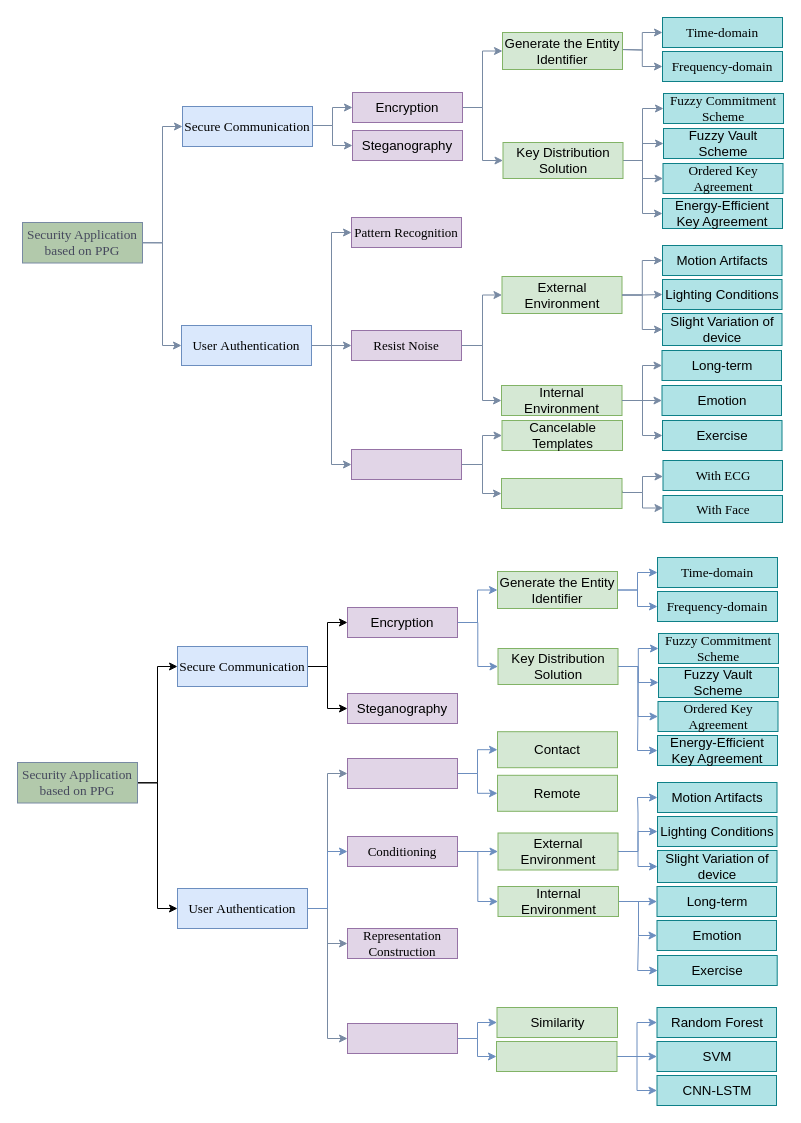
Some shapes in this 801 by 1123 pixel diagram are drawn without their labels. Here are the shapes that lost their labels. From the top down, the centre of each, then its label:
point (406, 464): Resist Attack
point (561, 493): Muti-factor
point (402, 773): Acquisition
point (402, 1038): Authentication Model
point (556, 1056): Machine Learning
